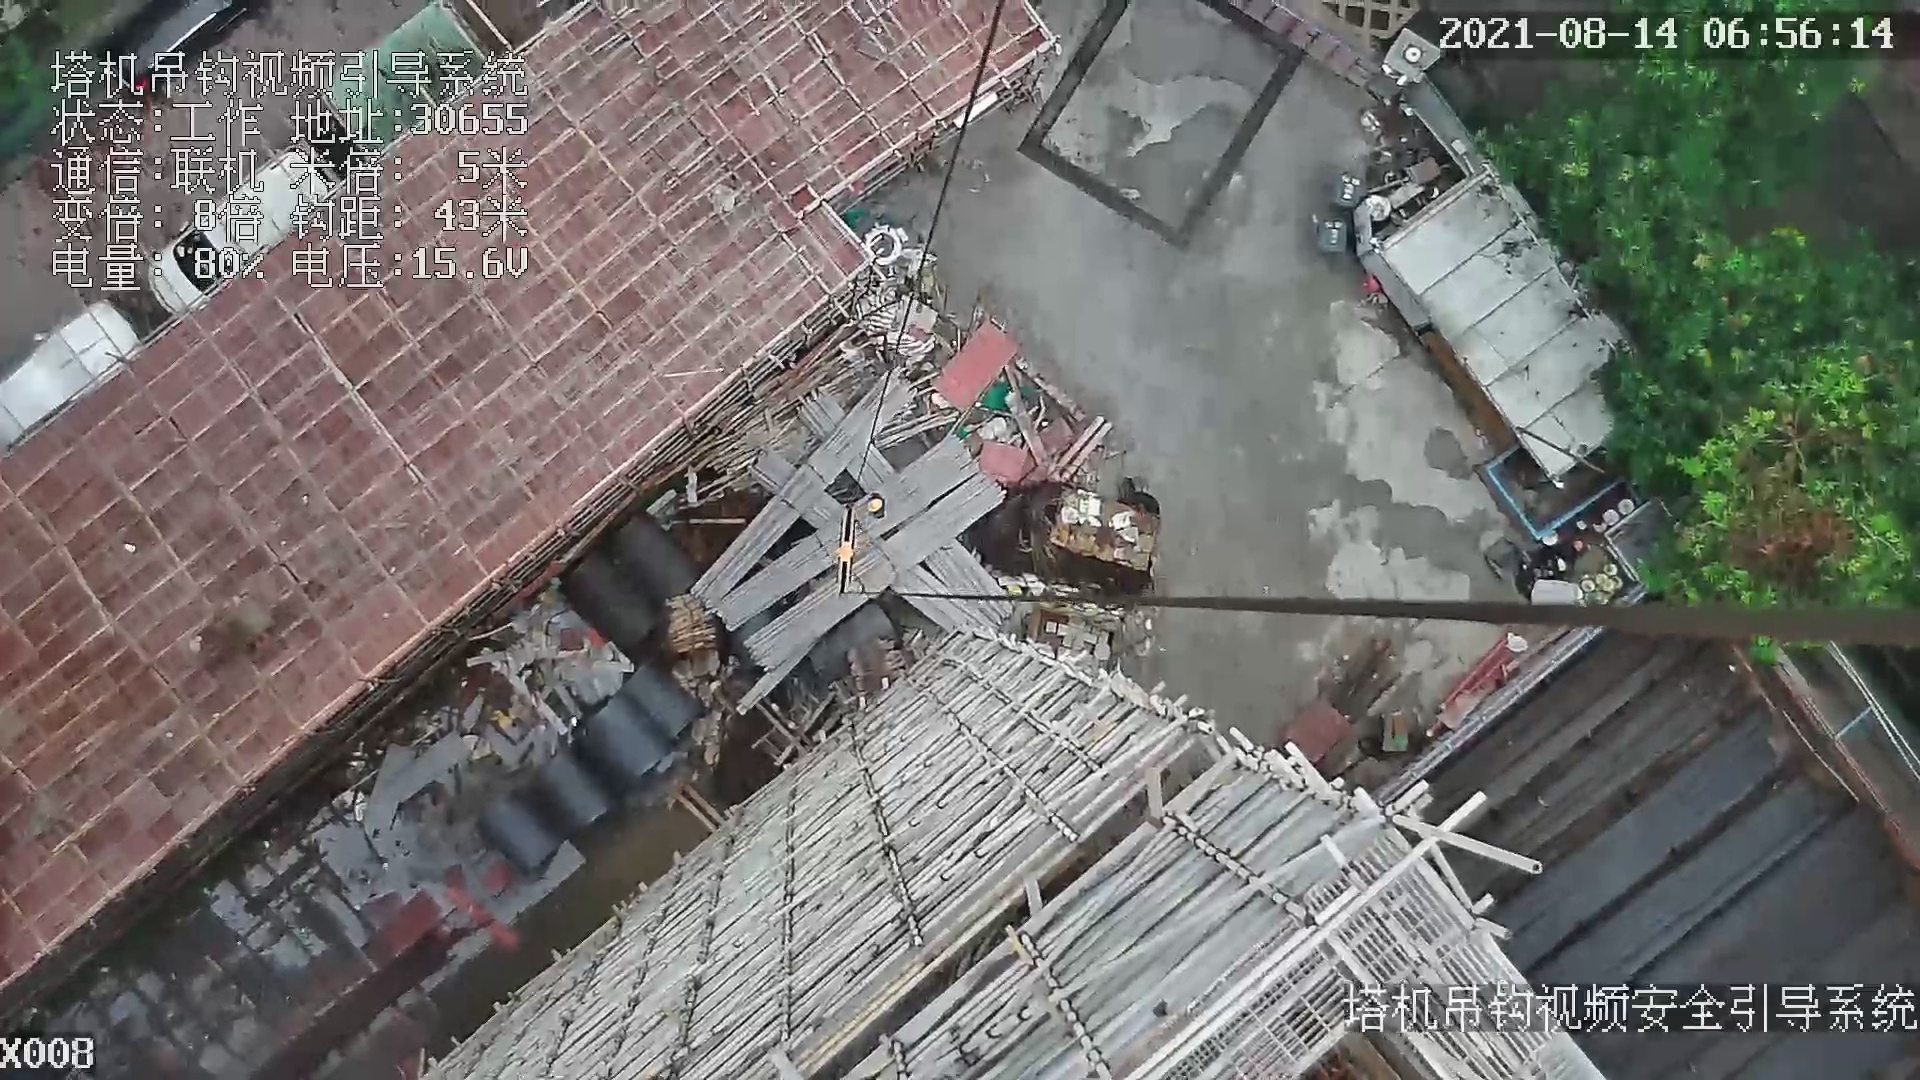helmet: (868, 498, 882, 511)
hook: (832, 506, 862, 597)
person: (868, 493, 886, 520)
rebar: (743, 471, 1007, 669), (692, 370, 914, 606), (712, 435, 980, 629), (925, 540, 1009, 622), (890, 565, 974, 628)
wood: (668, 610, 717, 654)
